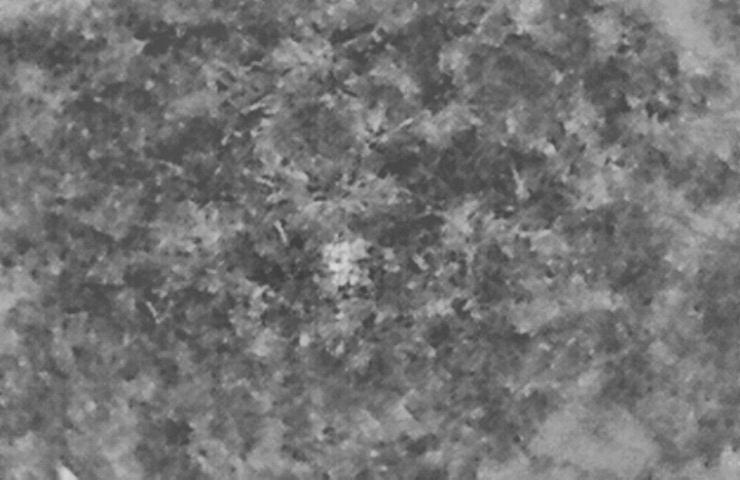landmines: (322, 238, 377, 289)
